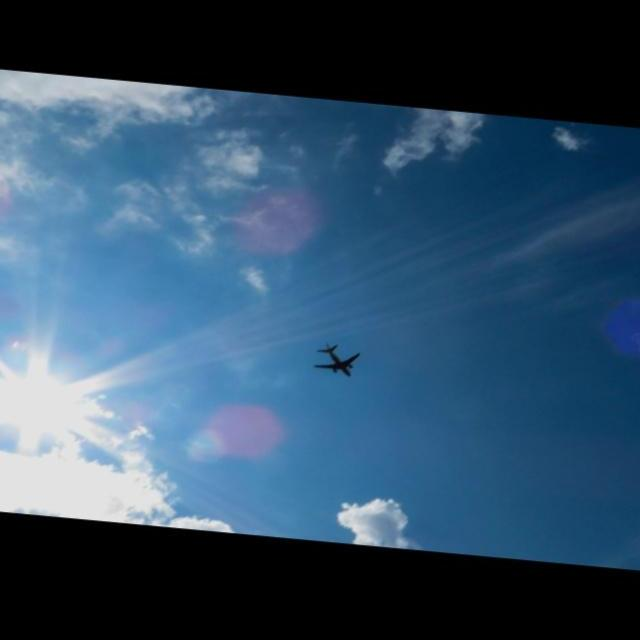airplane: (312, 339, 363, 380)
